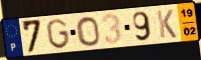3: (101, 12, 124, 47)
7: (21, 19, 43, 55)
9: (132, 10, 153, 42)
G: (45, 18, 72, 50)
K: (155, 9, 178, 40)
O: (75, 15, 102, 47)
